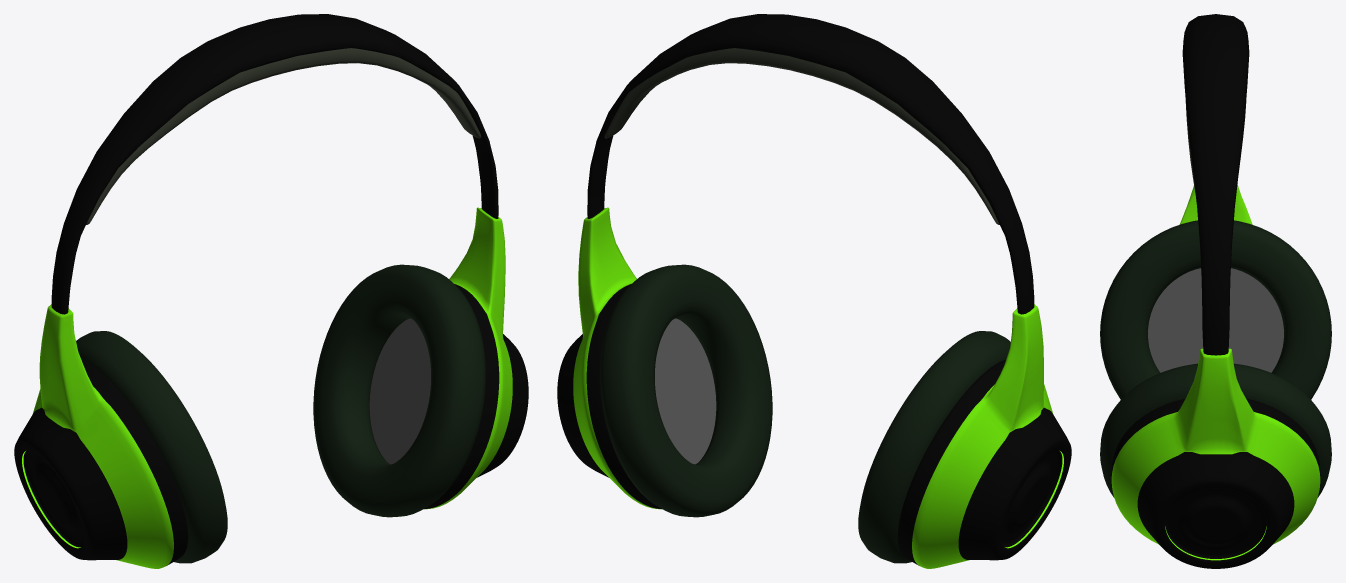
The model's file is headphones4.glb.
3 views of the same model, side by side, from view 1: azimuth 30°, elevation 25°; view 2: azimuth 150°, elevation 25°; view 3: azimuth 270°, elevation 25° (orthographic). The views are drawn at different scales.
Visible parts, largest first — view 1: Earcup, Earpiece, HeadSet, EarpieceMesh, HeadSetFabric; view 2: Earcup, Earpiece, HeadSet, EarpieceMesh, HeadSetFabric; view 3: Earpiece, Earcup, HeadSet, EarpieceMesh.
Part boxes in pixels (x1,y1,x2,y2): Earcup: (76, 264, 485, 563); Earpiece: (14, 207, 528, 568); HeadSet: (51, 14, 498, 314); EarpieceMesh: (369, 318, 430, 464); HeadSetFabric: (86, 48, 481, 224); Earcup: (600, 264, 1010, 563); Earpiece: (557, 207, 1071, 568); HeadSet: (587, 14, 1034, 314); EarpieceMesh: (655, 318, 716, 464); HeadSetFabric: (604, 48, 999, 224); Earpiece: (1111, 184, 1320, 568); Earcup: (1100, 220, 1331, 497); HeadSet: (1182, 14, 1249, 355); EarpieceMesh: (1148, 268, 1283, 372).
Size of the model in its own units: 0.1666 by 0.1701 by 0.0772.
